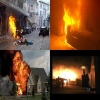fire: (12, 51, 30, 95), (63, 3, 80, 47), (9, 13, 23, 39), (54, 68, 78, 82)
